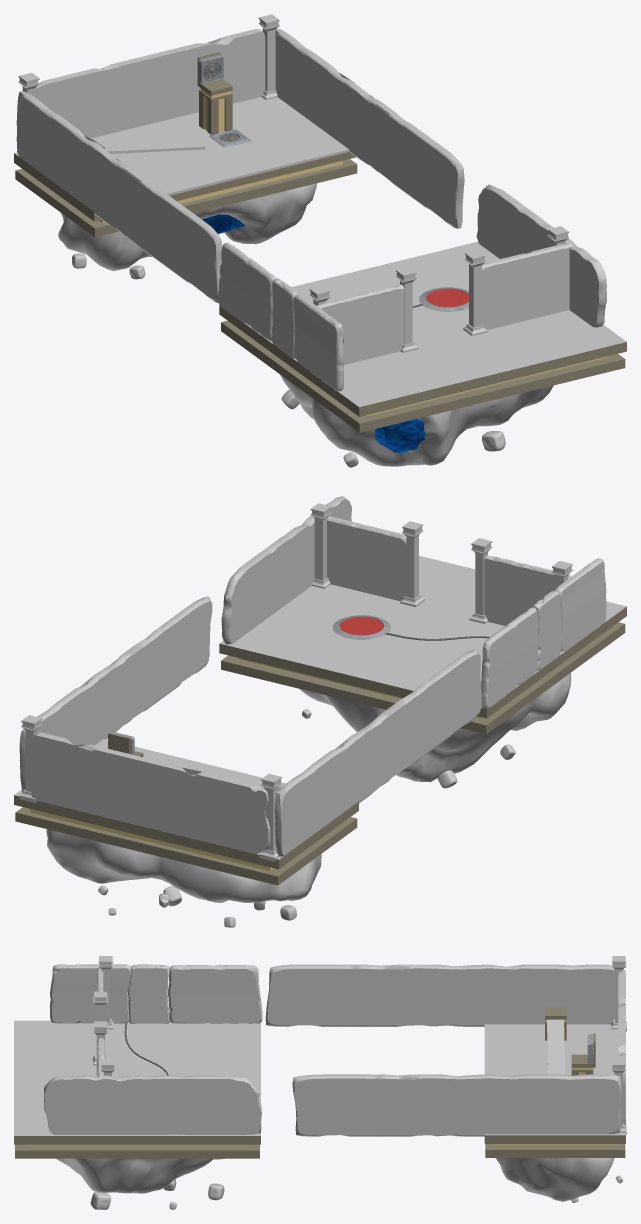
3 views of the same model, one above another, from view 1: azimuth 30°, elevation 25°; view 2: azimuth 150°, elevation 25°; view 3: azimuth 270°, elevation 25° (orthographic). The views are drawn at different scales.
Visible parts, largest first — view 1: Cube.246_dmg.011, Cube.246_dmg.049, Cube.246_dmg.027, Cube.246_dmg.026, Cube.246_dmg.042, Cylinder.181; view 2: Cube.246_dmg.011, Cube.246_dmg.027, Cylinder.181; view 3: Cube.246_dmg.011, Cube.246_dmg.027, Cube.246_dmg.026, Cube.246_dmg.049, Cube.246_dmg.028.
Boxes of the visible parts, <box> form: Cube.246_dmg.011: <box>14,14,626,467</box>; Cube.246_dmg.049: <box>197,52,232,134</box>; Cube.246_dmg.027: <box>272,278,298,358</box>; Cube.246_dmg.026: <box>100,139,205,153</box>; Cube.246_dmg.042: <box>198,54,223,84</box>; Cylinder.181: <box>426,289,468,307</box>; Cube.246_dmg.011: <box>14,496,626,927</box>; Cube.246_dmg.027: <box>533,591,561,670</box>; Cylinder.181: <box>339,617,384,635</box>; Cube.246_dmg.011: <box>14,956,626,1209</box>; Cube.246_dmg.027: <box>128,964,169,1023</box>; Cube.246_dmg.026: <box>547,1019,565,1074</box>; Cube.246_dmg.049: <box>571,1033,595,1075</box>; Cube.246_dmg.028: <box>545,1007,566,1040</box>.
Bounding box in the file's own units: 2415 × 1811 × 5406.
